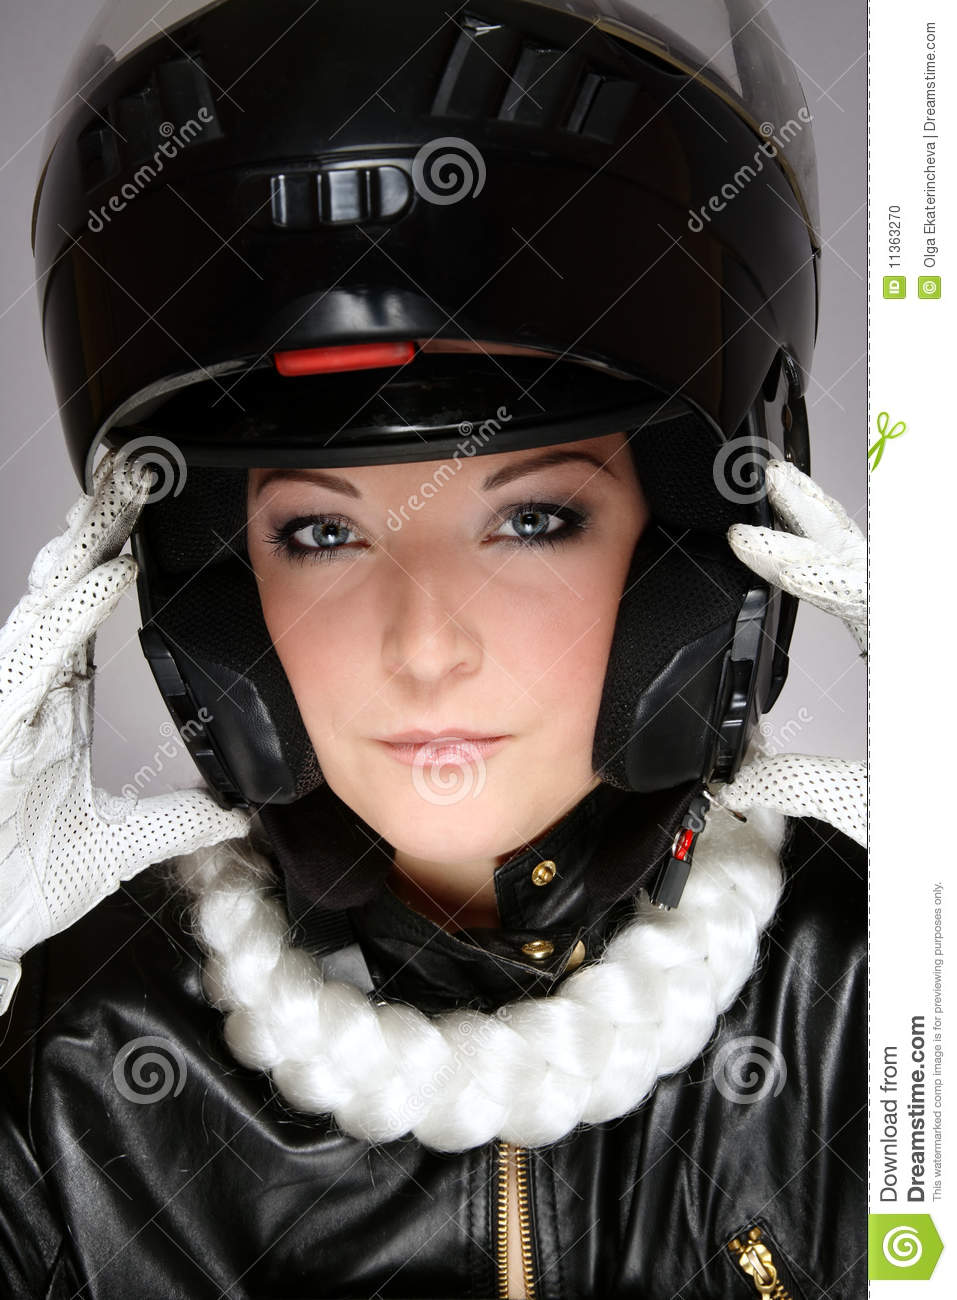helmet: (52, 33, 820, 799)
